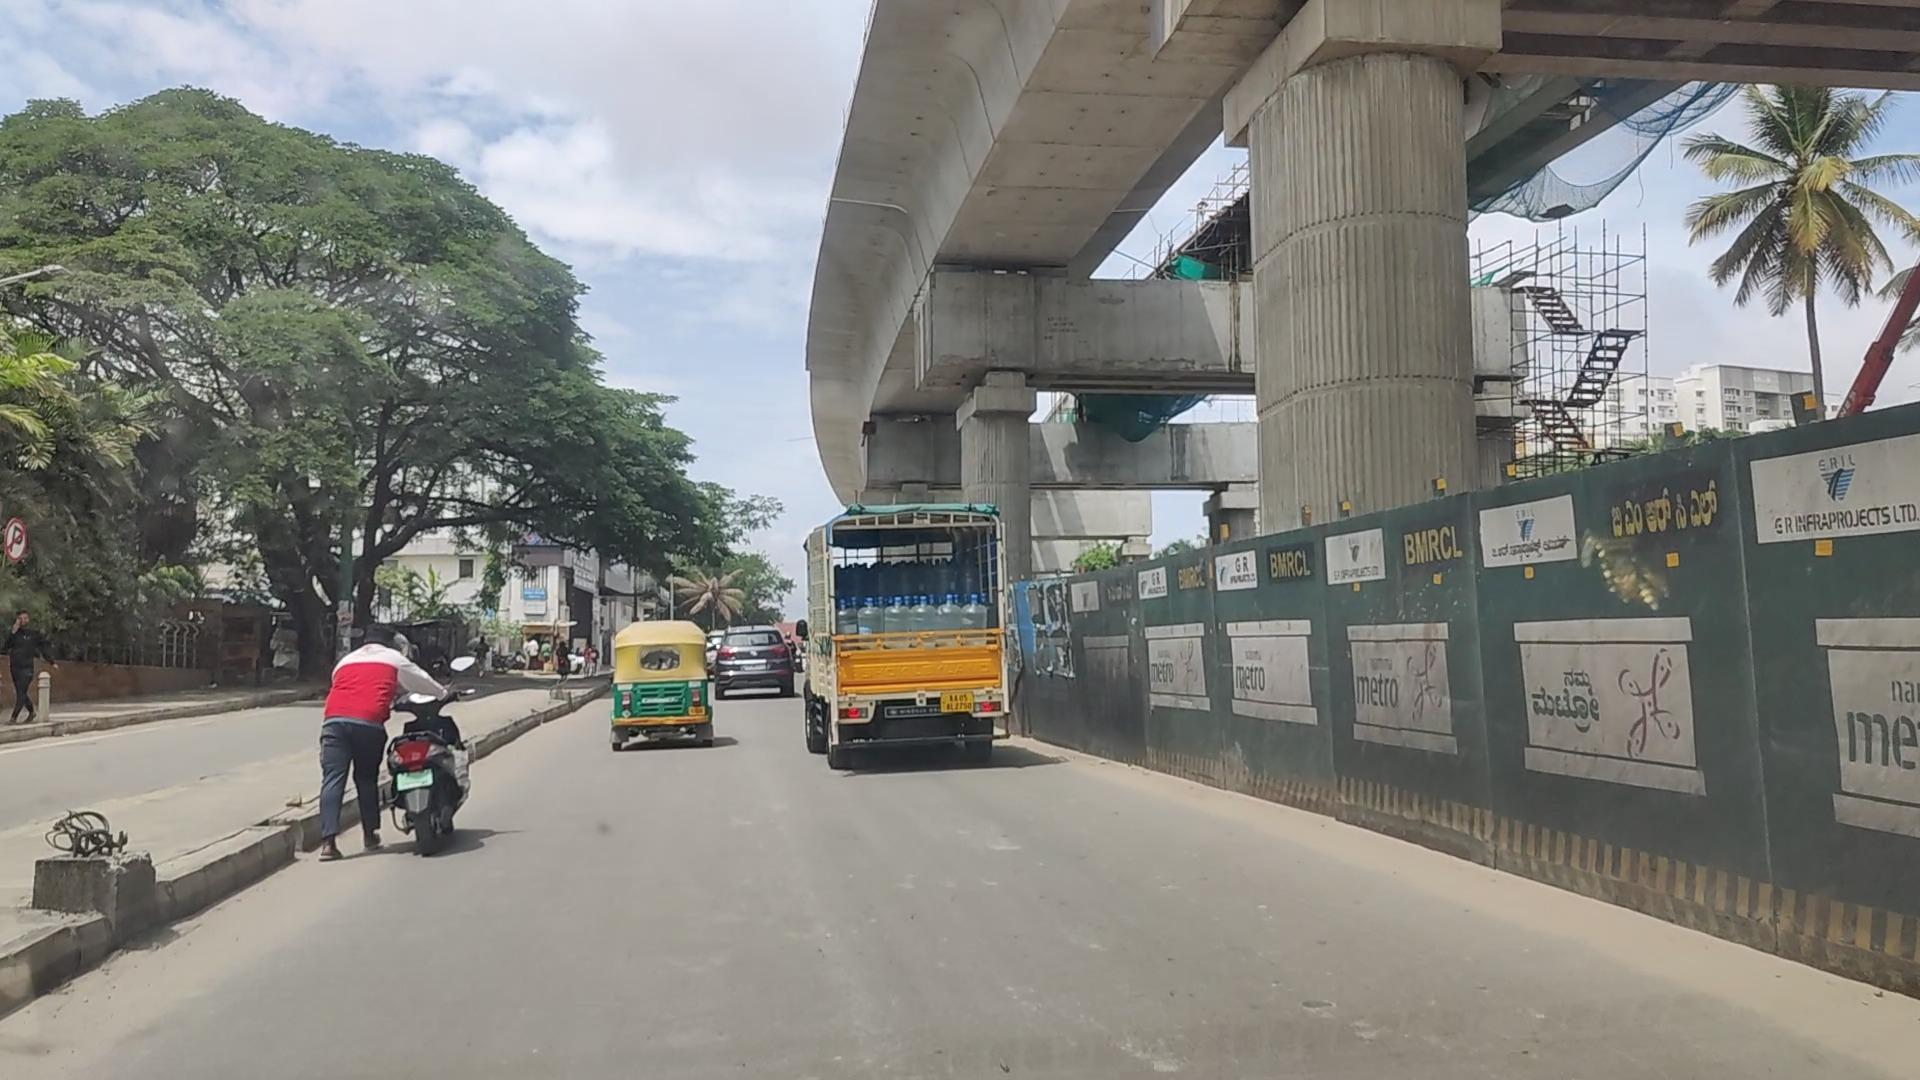HMV: (819, 513, 1015, 760)
LMV: (609, 615, 712, 754)
